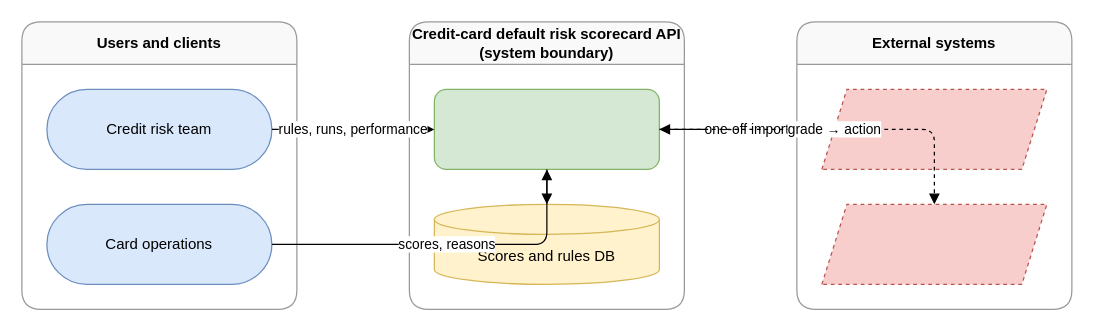
This 1094x331 diagram has some shape labels left out. Here are the shapes that lost their labels. From the top down, the centre of each, then its label:
At pixel 546 128: "Scorecard API".
At pixel 934 128: "UCI Default of Credit Card Clients (CC BY 4.0)".
At pixel 934 243: "Limit management (consumer system)".
